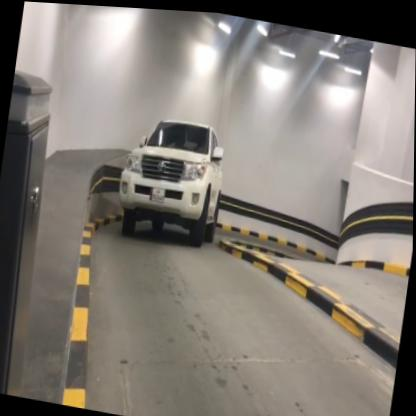np: (147, 179, 167, 205)
